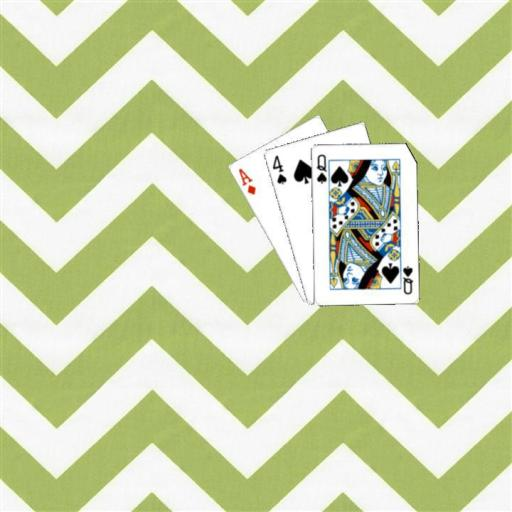4S: (269, 152, 288, 186)
AD: (235, 165, 257, 196)
QS: (313, 151, 328, 185), (400, 263, 414, 295)
